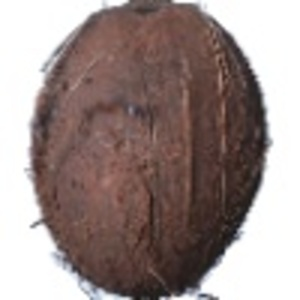coco: (28, 1, 272, 300)
